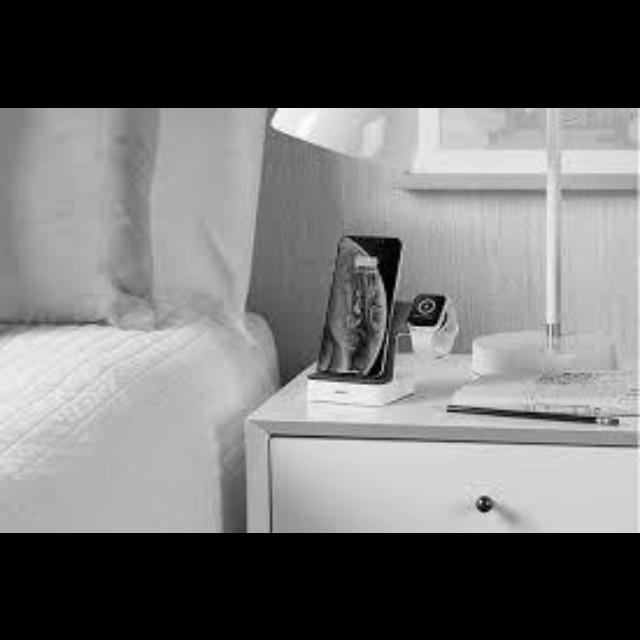fake: (316, 224, 416, 390)
